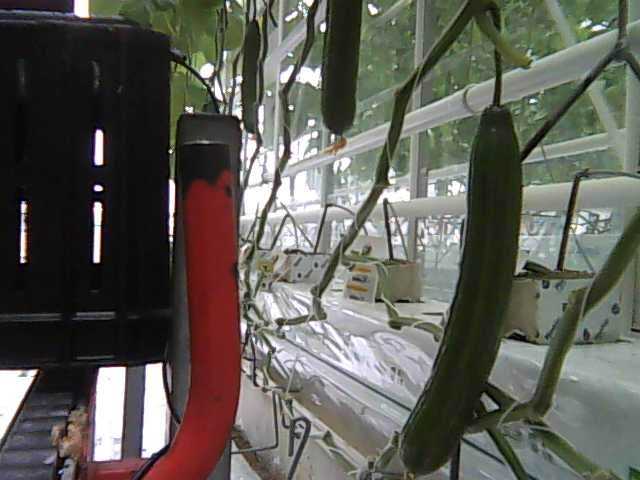concombre: (396, 94, 529, 480), (317, 1, 364, 156)
